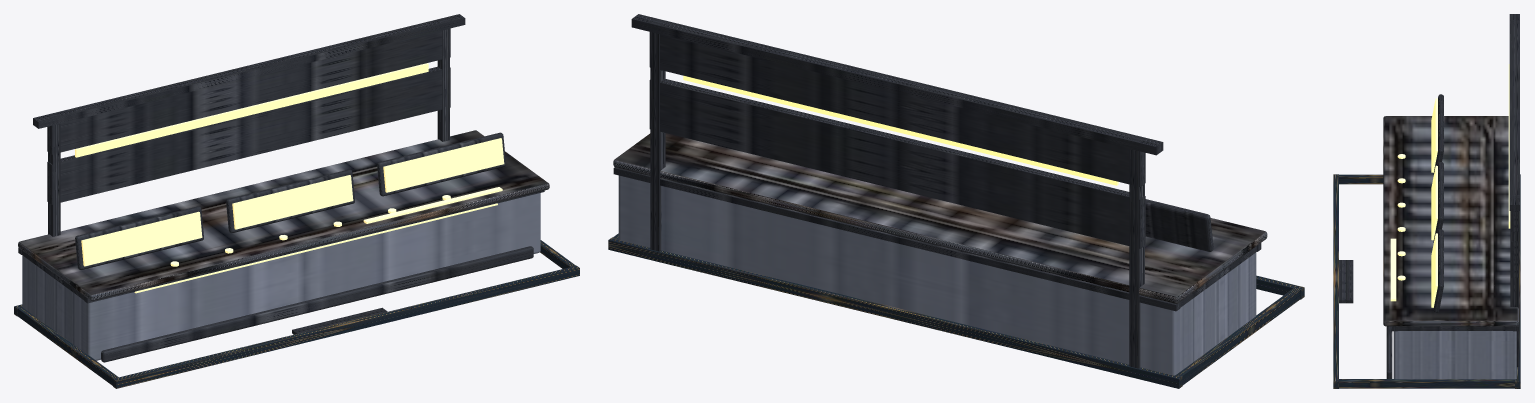
Rendered from bridge_navconsole.glb.
3 renders of one model, left to right at view 1: azimuth 30°, elevation 25°; view 2: azimuth 150°, elevation 25°; view 3: azimuth 270°, elevation 25°, orthographic. The views are drawn at different scales.
Parts seen in each view (by area): view 1: sight_shell, body, desk, kick, shelltoe0, sightglow, scr2_g, scr0_g, scr1_g, scr2, scr1, scr0 (+5 smaller); view 2: sight_shell, body, desk, shelltoe2, shellrim2, scr0, sightglow, shelltoes0; view 3: desk, body, sight_shell, shelltoes2, shelltoe0, pedal, shellrims2, scr2, shelltoes0, shelltoe2, slider, scr0 (+6 smaller).
Boxes of the visible parts, left/top/right/bottom form: sight_shell: left=33, top=14, right=465, bottom=236; body: left=22, top=193, right=540, bottom=360; desk: left=18, top=130, right=549, bottom=300; kick: left=101, top=246, right=533, bottom=362; shelltoe0: left=113, top=265, right=579, bottom=388; sightglow: left=75, top=63, right=428, bottom=157; scr2_g: left=383, top=138, right=504, bottom=192; scr0_g: left=81, top=211, right=202, bottom=266; scr1_g: left=232, top=175, right=353, bottom=229; scr2: left=377, top=132, right=505, bottom=196; scr1: left=226, top=169, right=354, bottom=233; scr0: left=75, top=206, right=203, bottom=269; sight_shell: left=631, top=14, right=1163, bottom=368; body: left=618, top=175, right=1256, bottom=375; desk: left=613, top=133, right=1267, bottom=303; shelltoe2: left=608, top=237, right=1182, bottom=388; shellrim2: left=613, top=167, right=1180, bottom=311; scr0: left=1145, top=199, right=1213, bottom=251; sightglow: left=683, top=75, right=1118, bottom=185; shelltoes0: left=1174, top=287, right=1300, bottom=385; desk: left=1383, top=116, right=1518, bottom=326; body: left=1393, top=331, right=1516, bottom=379; sight_shell: left=1509, top=14, right=1519, bottom=366; shelltoes2: left=1337, top=379, right=1515, bottom=388; shelltoe0: left=1333, top=174, right=1338, bottom=388; pedal: left=1339, top=260, right=1353, bottom=303; shellrims2: left=1397, top=326, right=1512, bottom=330; scr2: left=1433, top=229, right=1443, bottom=312; shelltoes0: left=1338, top=174, right=1383, bottom=184; shelltoe2: left=1515, top=174, right=1520, bottom=388; slider: left=1390, top=238, right=1396, bottom=301; scr0: left=1433, top=94, right=1443, bottom=174.
Size of the model in its own units: 4.3 by 1.7 by 1.64.
Materials: 7 (5 with a texture image).
